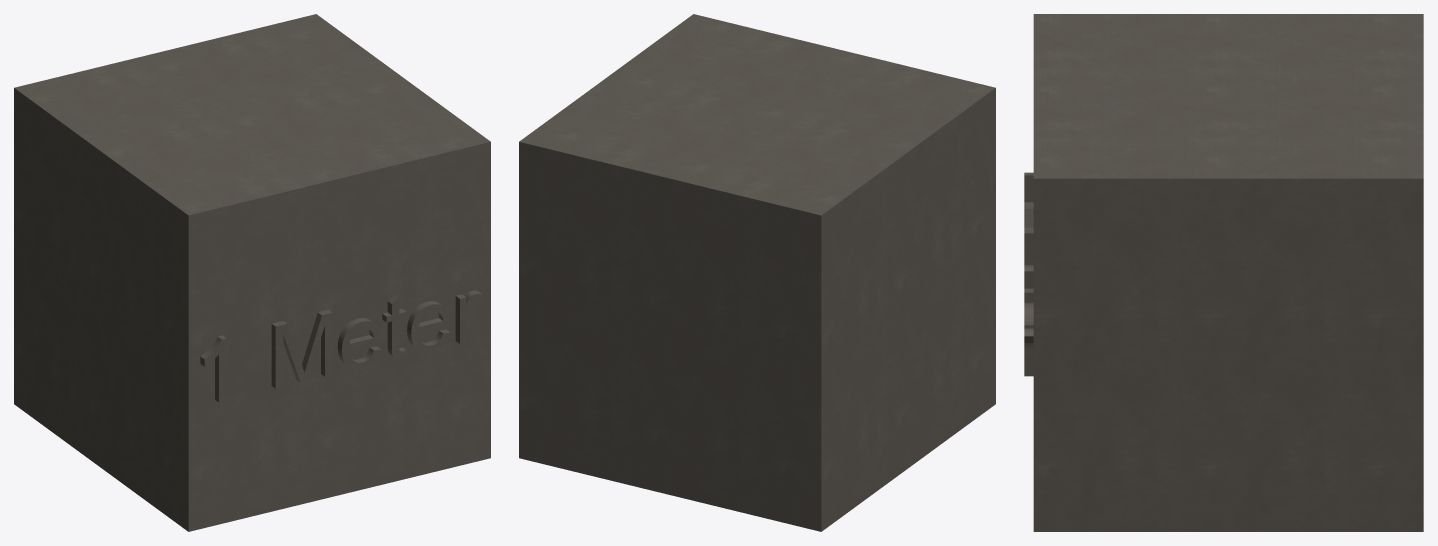
The model's file is MeterBox_m.gltf.
The picture shows the model from 3 angles, left to right: view 1: azimuth 30°, elevation 25°; view 2: azimuth 150°, elevation 25°; view 3: azimuth 270°, elevation 25°; orthographic projection. The views are drawn at different scales.
Parts seen in each view (by area): view 1: MeterBox; view 2: MeterBox; view 3: MeterBox.
Boxes of the visible parts, x1,y1,x2,y2 form: MeterBox: [14, 14, 490, 531]; MeterBox: [519, 14, 995, 531]; MeterBox: [1024, 14, 1423, 531].
Size of the model in its own units: 1 by 1 by 1.02.
1 material, 1 textured.
